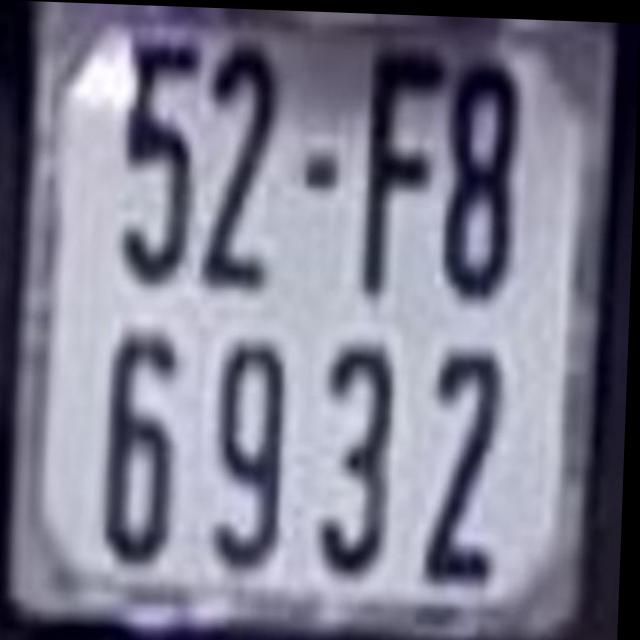2: (204, 41, 279, 287), (429, 343, 508, 576)
3: (327, 343, 396, 566)
5: (120, 39, 203, 280)
6: (104, 323, 185, 558)
8: (450, 58, 524, 293)
9: (215, 344, 298, 571)
F: (359, 45, 444, 286)
